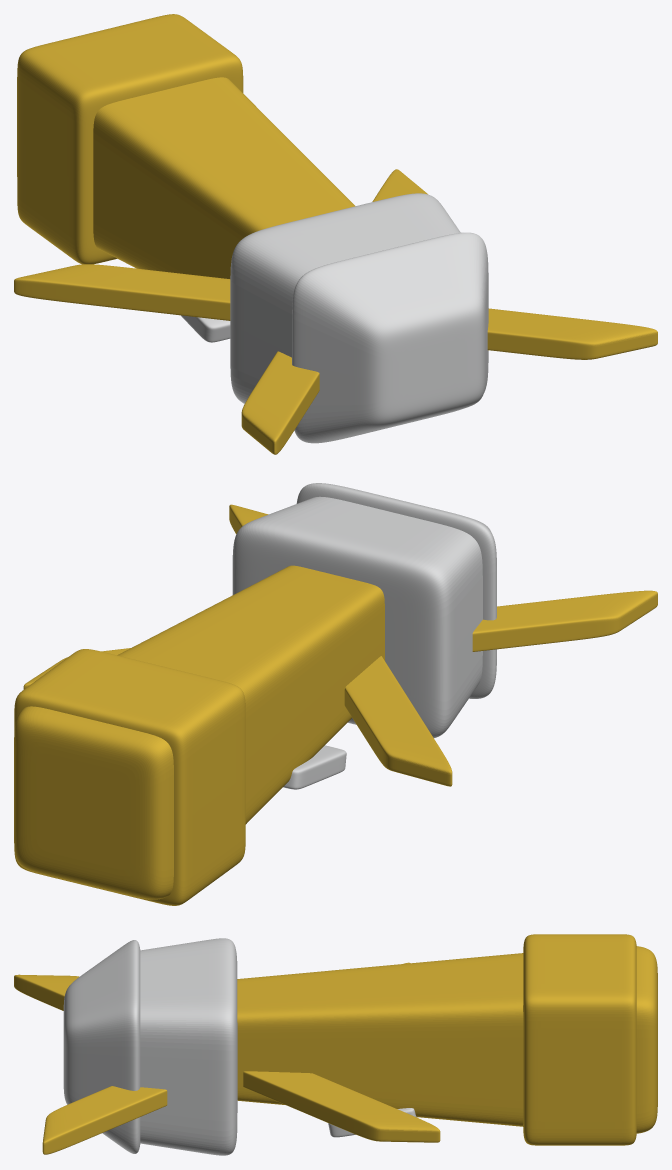
File: windmill_sq.glb
3 views of the same model, one above another, from view 1: azimuth 30°, elevation 25°; view 2: azimuth 150°, elevation 25°; view 3: azimuth 270°, elevation 25° (orthographic). The views are drawn at different scales.
Parts seen in each view (by area): view 1: superquadric_1, superquadric_3, superquadric_0, superquadric_2, superquadric_6, superquadric_8, superquadric_7, superquadric_9, superquadric_5; view 2: superquadric_1, superquadric_2, superquadric_0, superquadric_6, superquadric_7, superquadric_3, superquadric_9; view 3: superquadric_1, superquadric_0, superquadric_2, superquadric_3, superquadric_5, superquadric_8, superquadric_7.
Part boxes in pixels (x1,y1,x2,y2): superquadric_1: (17, 77, 355, 278); superquadric_3: (292, 232, 488, 443); superquadric_0: (17, 14, 243, 264); superquadric_2: (230, 193, 460, 403); superquadric_6: (14, 264, 230, 320); superquadric_8: (487, 308, 657, 359); superquadric_7: (241, 351, 319, 454); superquadric_9: (181, 315, 230, 342); superquadric_5: (372, 169, 427, 201); superquadric_1: (14, 565, 384, 899); superquadric_2: (232, 496, 482, 737); superquadric_0: (14, 649, 245, 905); superquadric_6: (344, 656, 452, 786); superquadric_7: (472, 590, 657, 651); superquadric_3: (296, 483, 496, 698); superquadric_9: (283, 745, 346, 789); superquadric_1: (237, 946, 657, 1133); superquadric_0: (523, 934, 636, 1145); superquadric_2: (140, 938, 237, 1155); superquadric_3: (63, 940, 140, 1153); superquadric_5: (243, 1071, 440, 1142); superquadric_8: (42, 1086, 167, 1154); superquadric_7: (14, 974, 79, 1010).
Bounding box in the file's own units: 0.6619 × 0.2708 × 1.
